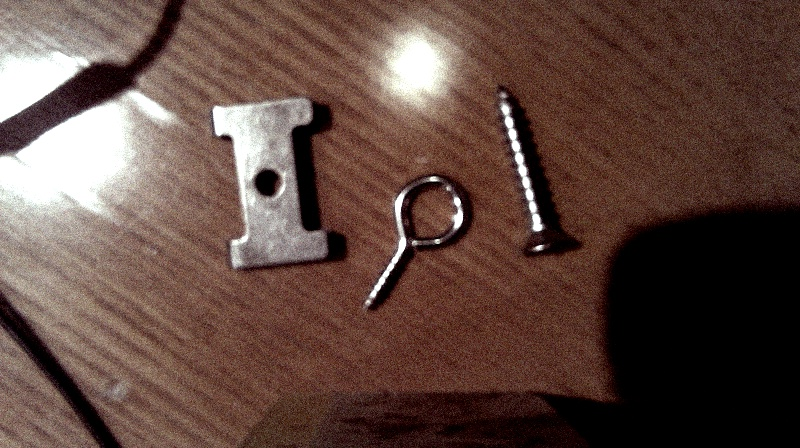O001: (355, 170, 475, 317)
O002: (208, 95, 335, 276)
S001: (487, 83, 574, 262)
